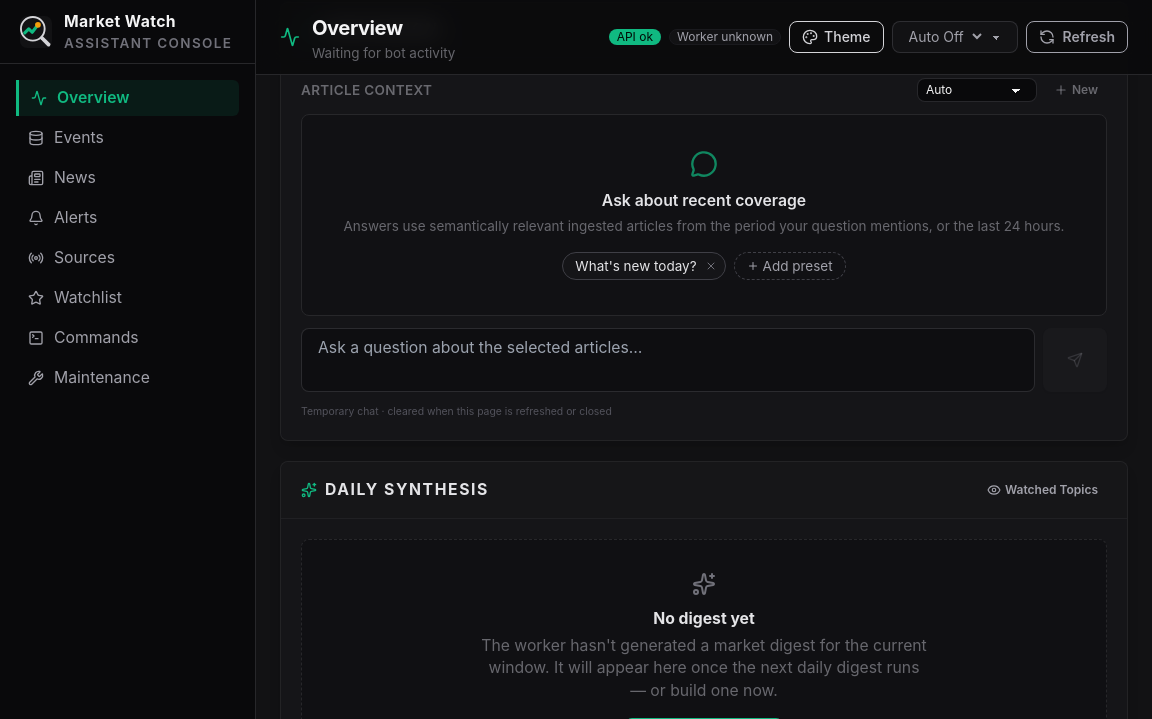
Test: App data states › chats with article context, displays sources, and resets when timeframe changes
The width and height of the screenshot is (1152, 719).
(page scrolled)
Type "What does the Fed coverage imply?" into the text box named "Discussion message". click: (668, 360)
box: [301,328,1035,392]
(page scrolled)
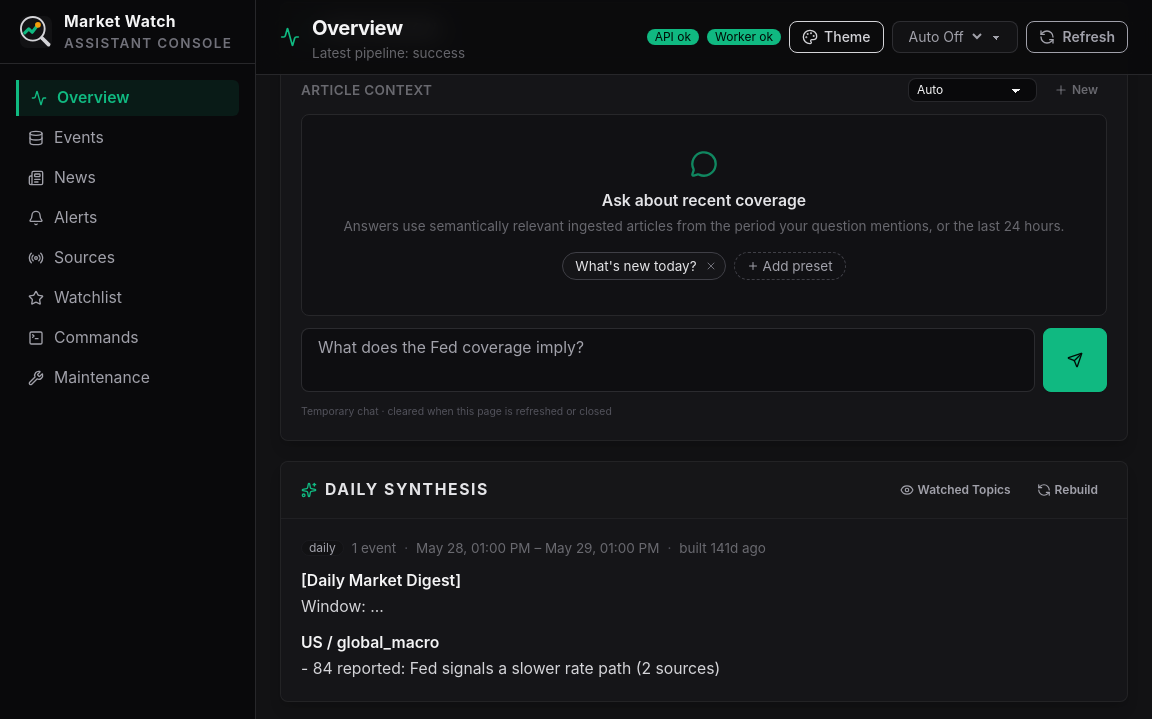
Click the button named "Send discussion message". click: (1075, 360)
box: [1043,328,1107,392]
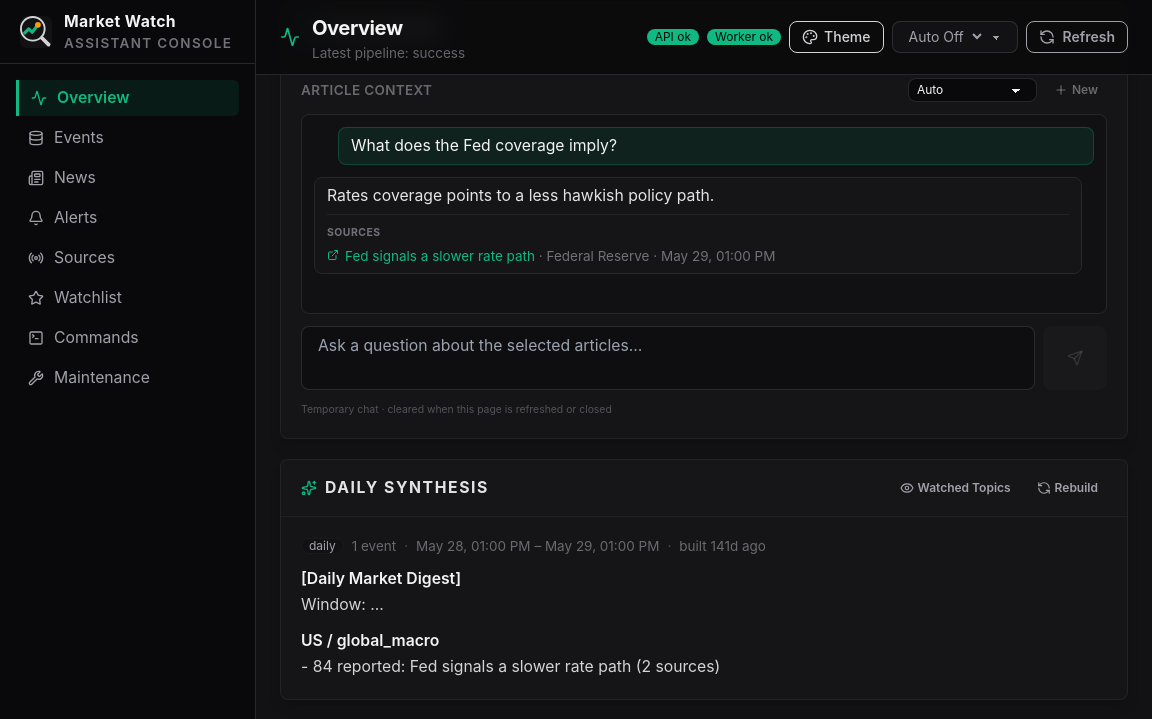
Expected: the text "Rates coverage points to a less hawkish policy path." is shown, [327,186,714,205]
Select "Last 7 days" in the dropdown named "Discussion article timeframe". click: (972, 90)
box: [908,78,1037,102]
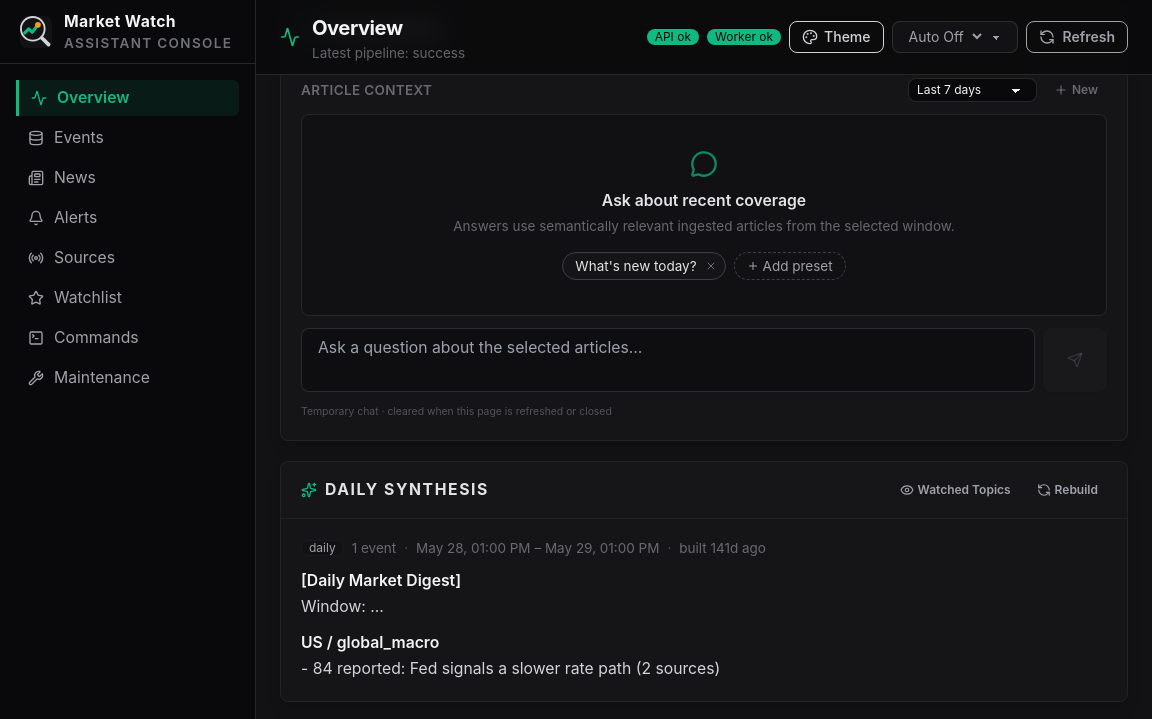
Expected: the text box named "Discussion message" is empty, [301,328,1035,392]
Expected: the text "Rates coverage points to a less hawkish policy path." is gone
